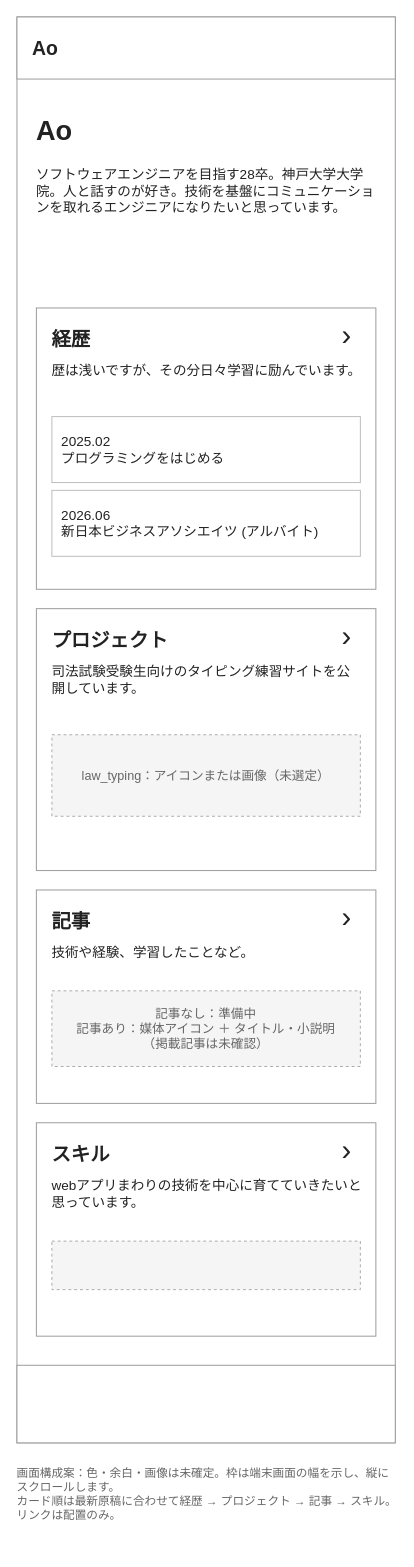
Some shapes in this 414 by 1567 pixel diagram are drawn without their labels. Each missing label, with the centre of its shape:
GitHub ／ X: the point at 205,1403
技術アイコン ＋ 技術名 （対象技術・素材は未選定）: the point at 205,1265
